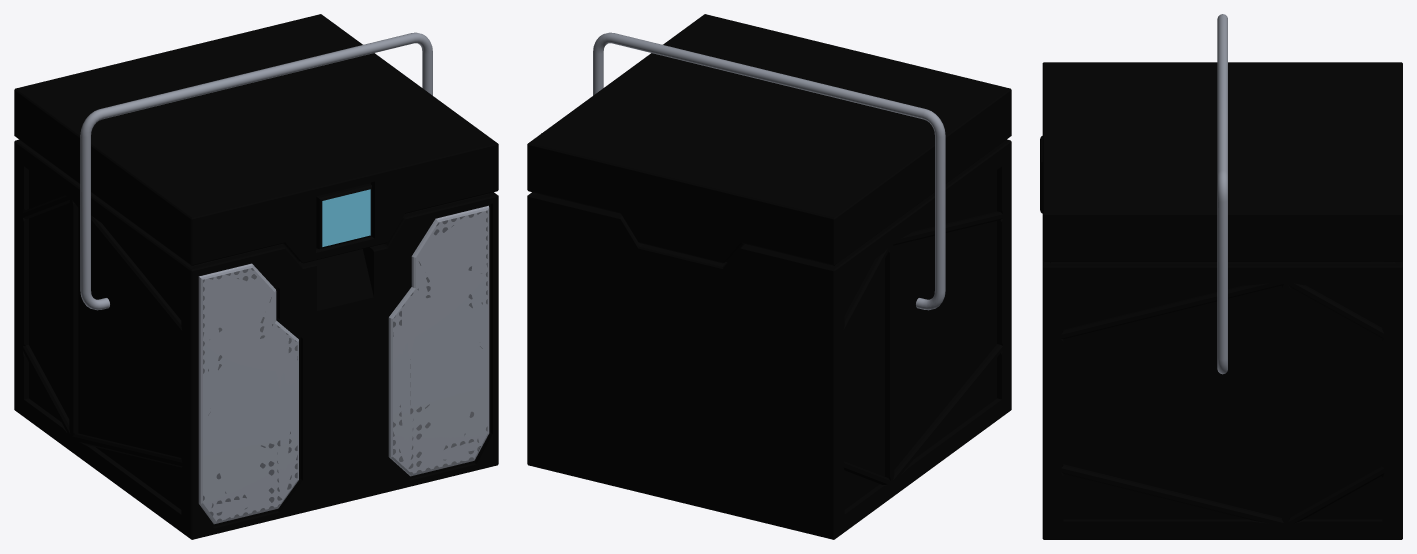
File: Crate.fbx
3 renders of one model, left to right at view 1: azimuth 30°, elevation 25°; view 2: azimuth 150°, elevation 25°; view 3: azimuth 270°, elevation 25°, orthographic.
Visible parts, largest first — view 1: Crate; view 2: Crate; view 3: Crate.
Part boxes in pixels (left/top/right/bottom): Crate: left=14, top=14, right=498, bottom=539; Crate: left=527, top=14, right=1011, bottom=539; Crate: left=1040, top=14, right=1402, bottom=539.
Bounding box in the file's own units: 1.48 × 1.47 × 1.31.
